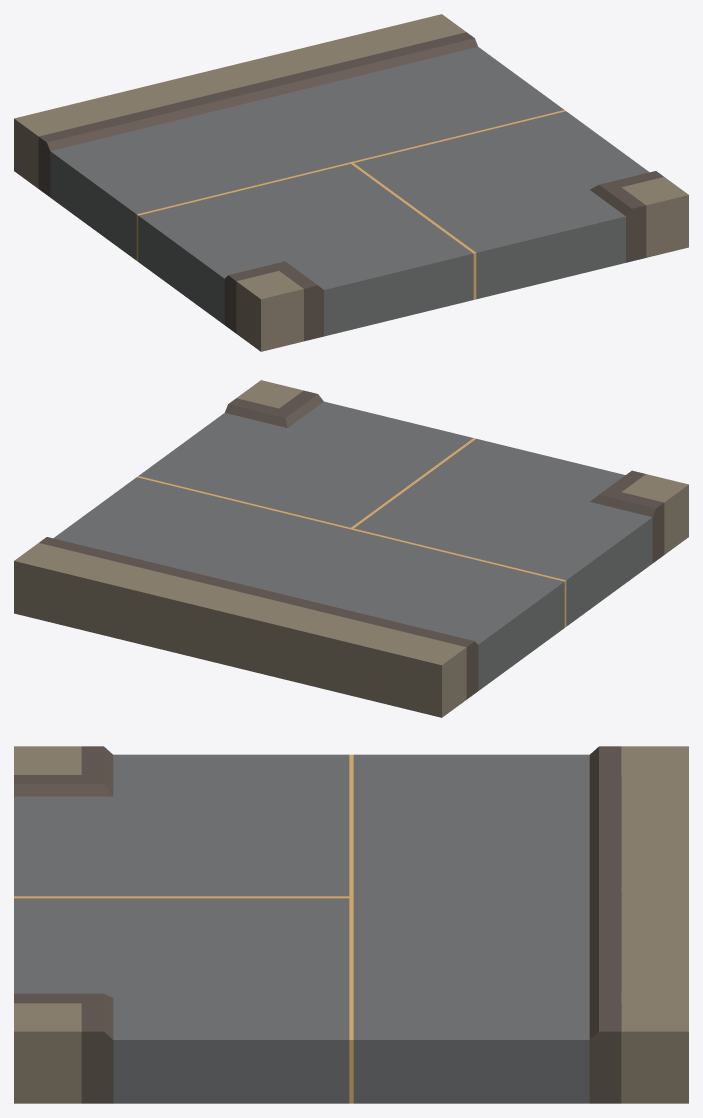
The model's file is Cruzamento em T.fbx.
The picture shows the model from 3 angles, top to bottom: view 1: azimuth 30°, elevation 25°; view 2: azimuth 150°, elevation 25°; view 3: azimuth 270°, elevation 25°; orthographic projection. The views are drawn at different scales.
Parts seen in each view (by area): view 1: Cruzamento em T; view 2: Cruzamento em T; view 3: Cruzamento em T.
Part boxes in pixels (box(x1,y1,x2,y2)): Cruzamento em T: box(14, 14, 688, 351); Cruzamento em T: box(14, 380, 688, 717); Cruzamento em T: box(14, 746, 688, 1103).
Bounding box in the file's own units: 200 × 23.48 × 200.
